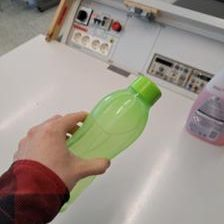bottle: (53, 73, 163, 213)
